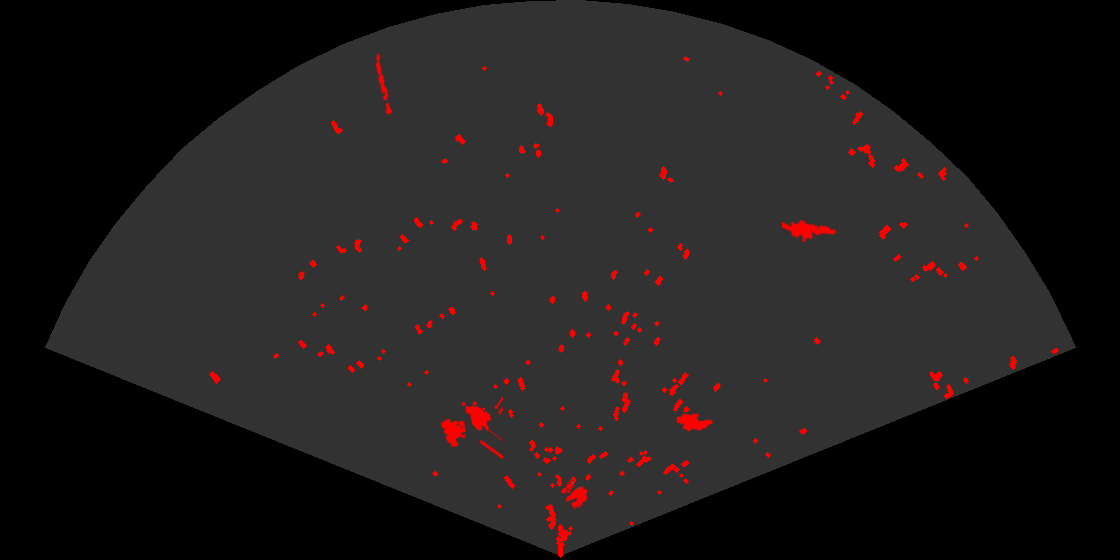AUV: (674, 412, 715, 433)
ball: (560, 479, 589, 509)
cage: (439, 395, 503, 461)
chain: (374, 51, 394, 117)
frogman: (782, 218, 838, 244)
